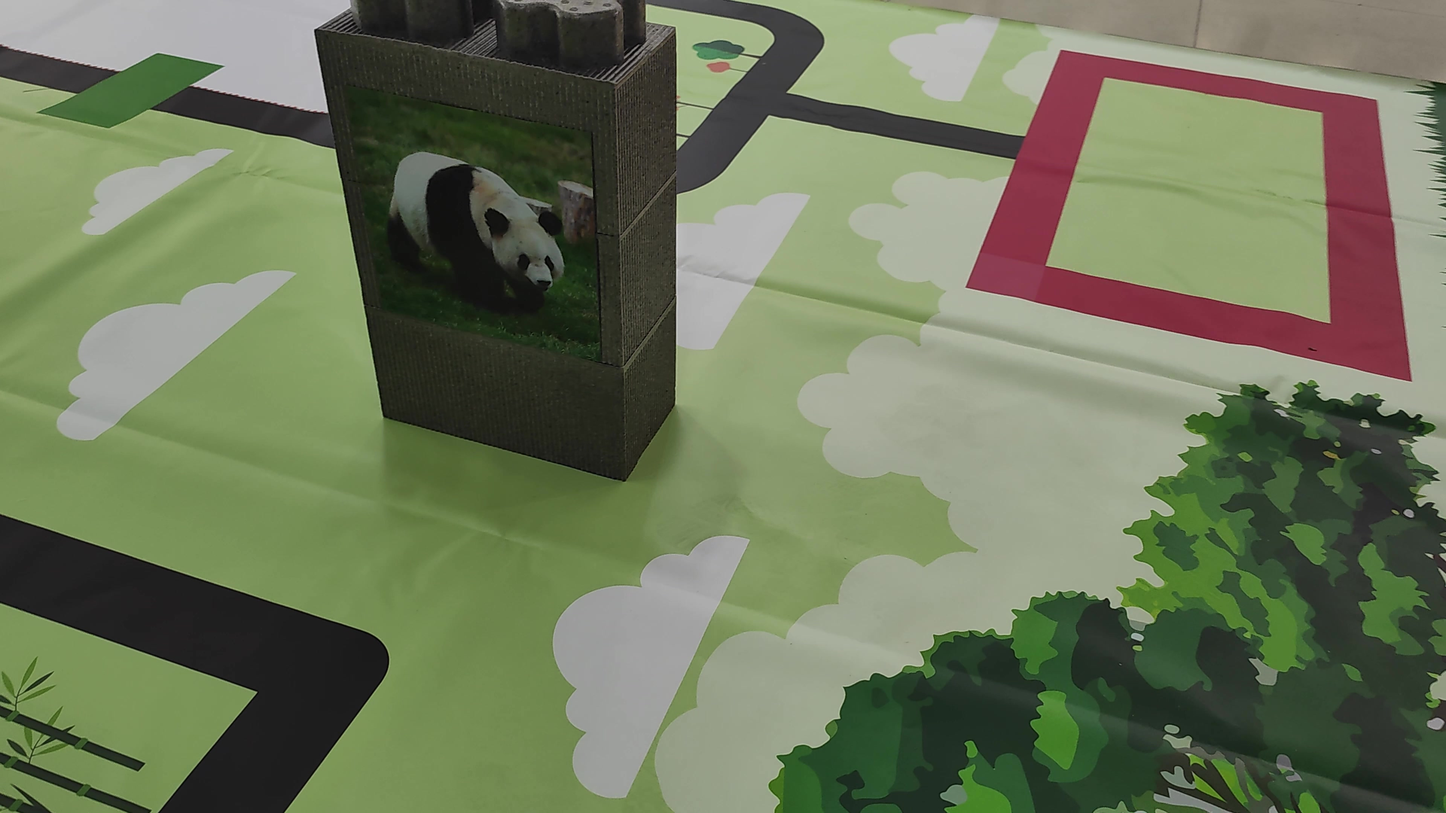panda: (368, 102, 606, 349)
